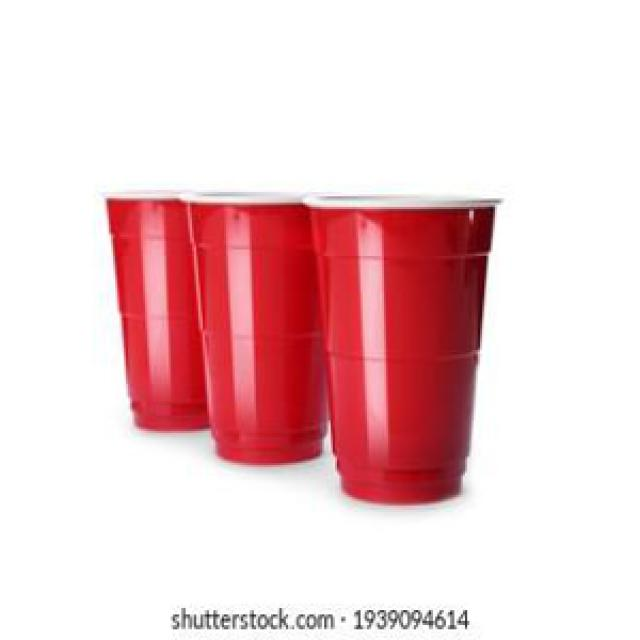plastic cup: (301, 188, 508, 510), (177, 182, 331, 469), (96, 186, 211, 437)
